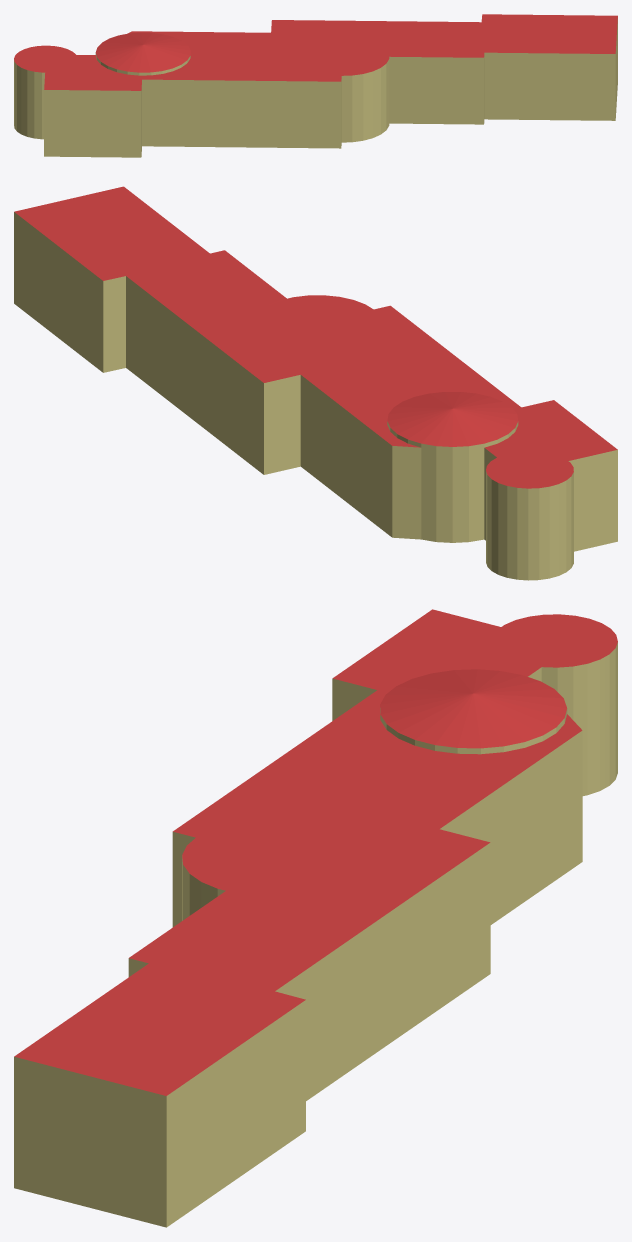
3 views of the same model, one above another, from view 1: azimuth 30°, elevation 25°; view 2: azimuth 150°, elevation 25°; view 3: azimuth 270°, elevation 25° (orthographic). The views are drawn at different scales.
Size of the model in its own units: 59.96 by 31.44 by 8.77.
